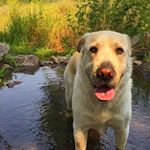puppy: (60, 26, 137, 150)
